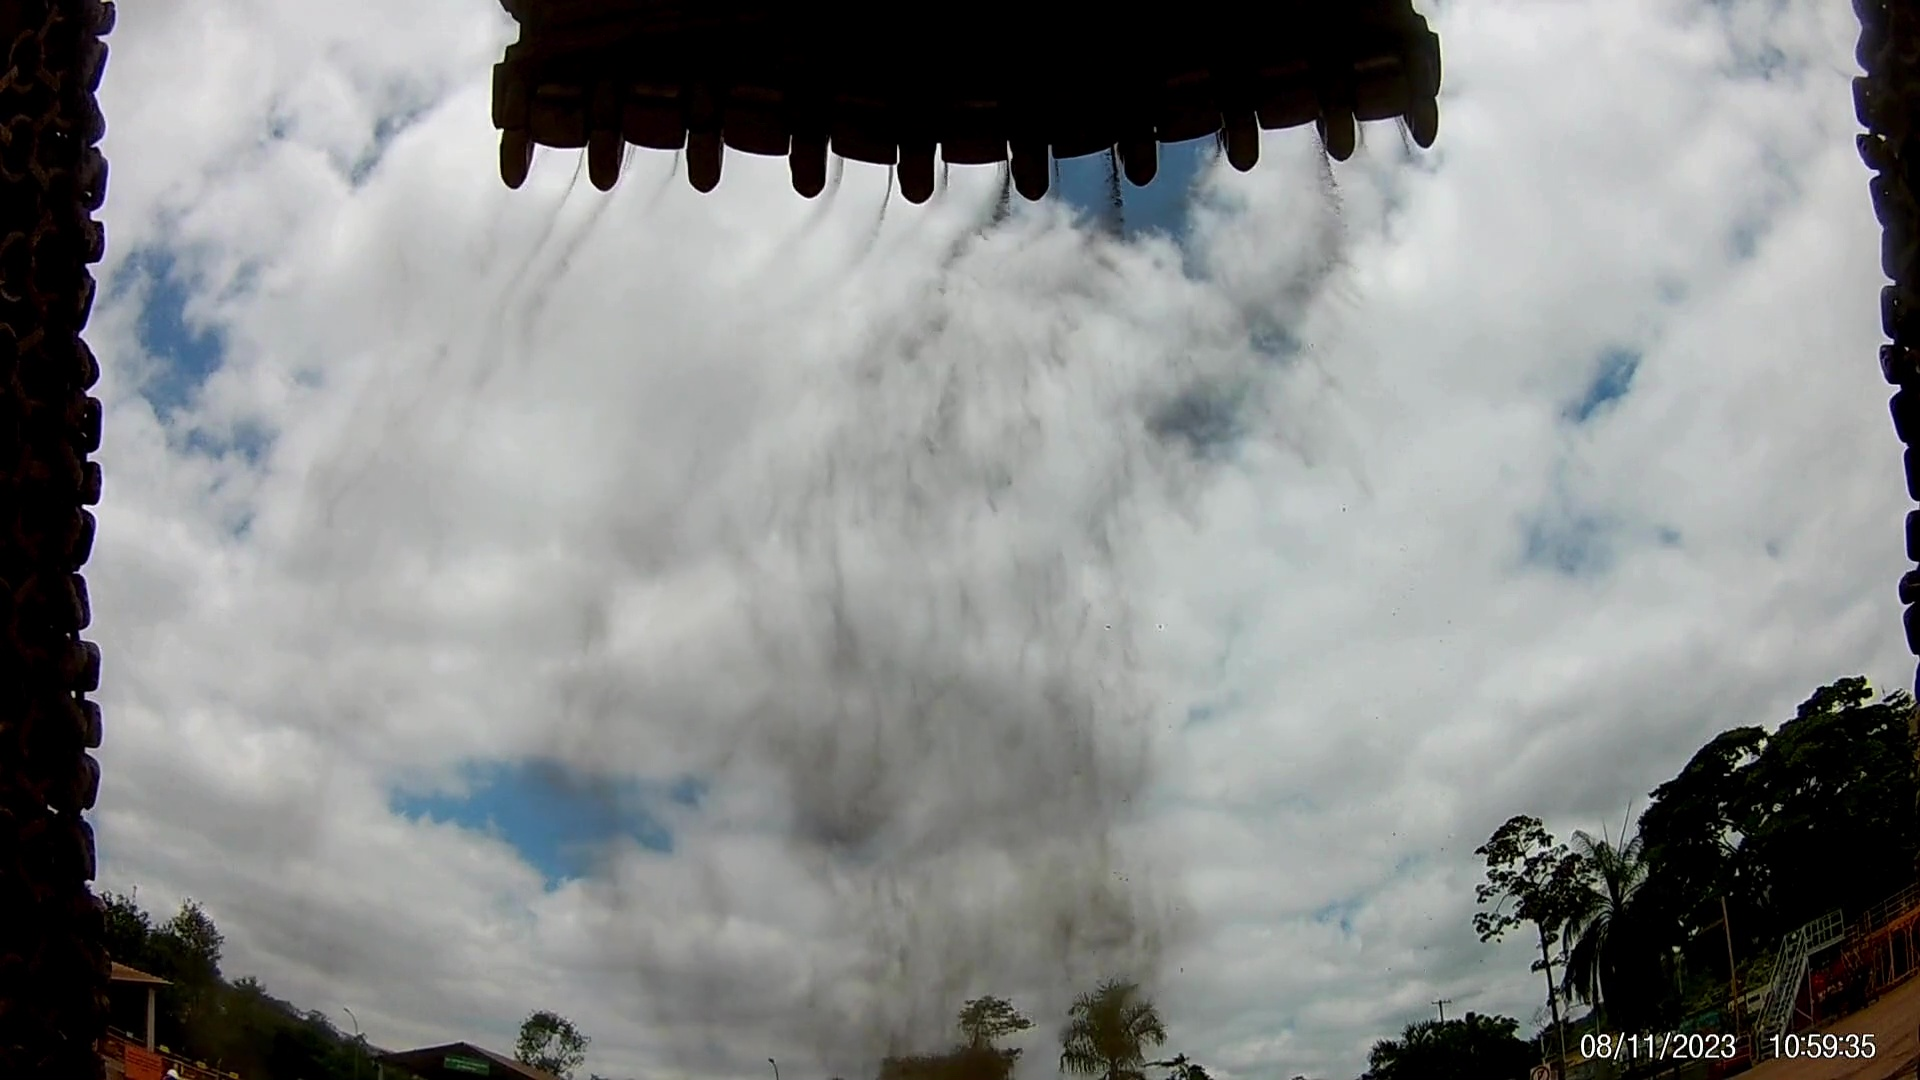FPS: (1313, 67, 1377, 191), (880, 135, 947, 218), (1112, 123, 1189, 193), (675, 127, 746, 200), (997, 141, 1065, 218), (1216, 107, 1276, 179), (585, 135, 636, 204), (796, 141, 844, 200), (1411, 105, 1456, 162), (501, 129, 542, 189)
